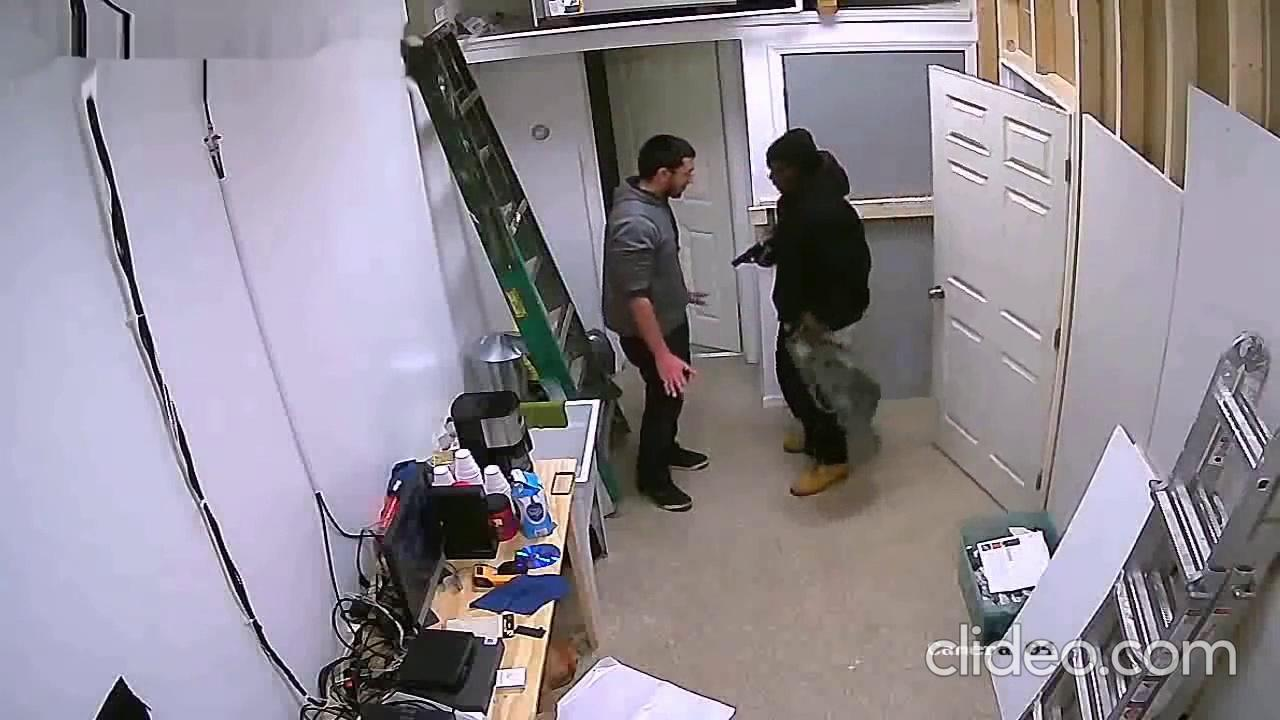person: (751, 127, 873, 499), (600, 132, 711, 514)
pistol: (731, 240, 766, 269)
